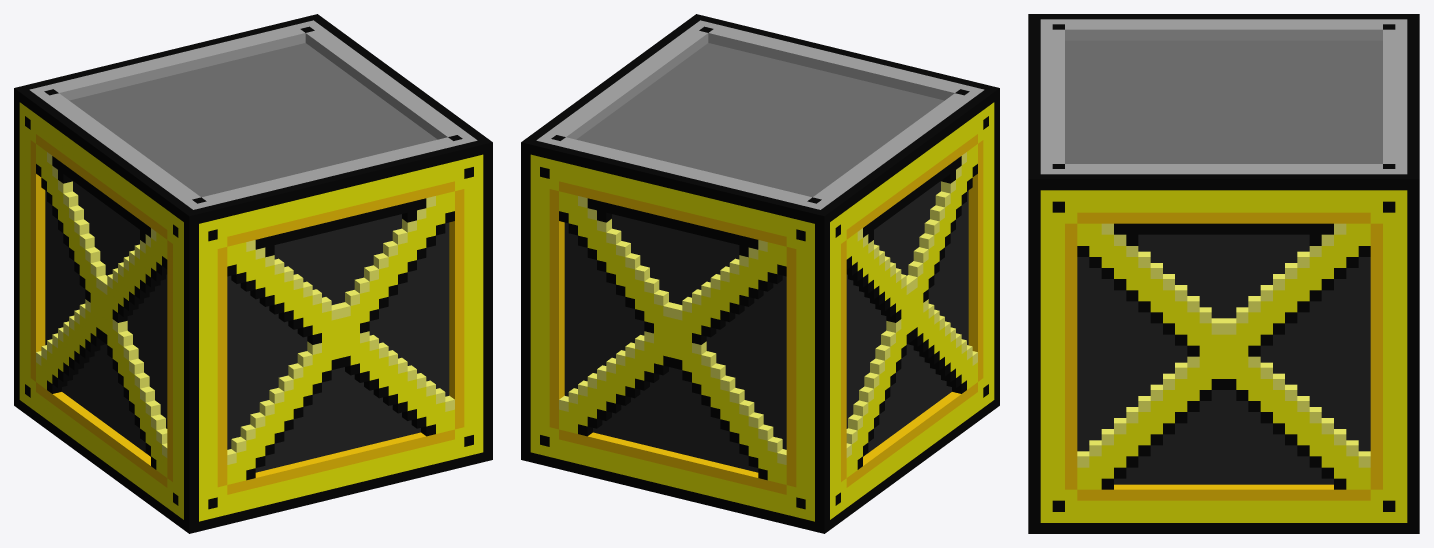
The model's file is Caixa Int.obj.
3 views of the same model, side by side, from view 1: azimuth 30°, elevation 25°; view 2: azimuth 150°, elevation 25°; view 3: azimuth 270°, elevation 25° (orthographic). The views are drawn at different scales.
Size of the model in its own units: 3.2 by 3.2 by 3.2.
1 material, 1 textured.
